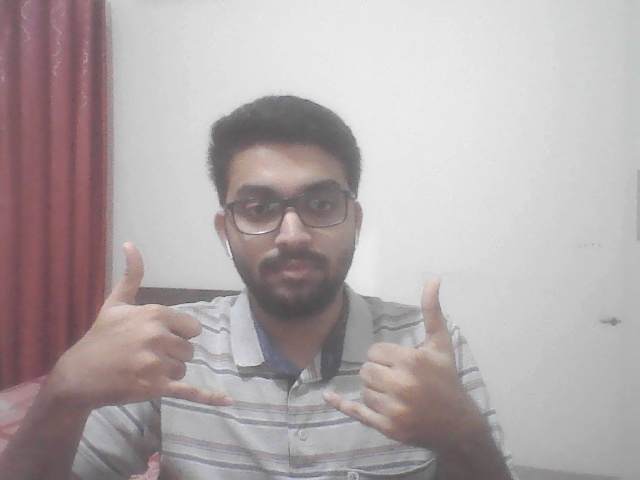play: (49, 237, 491, 450)
